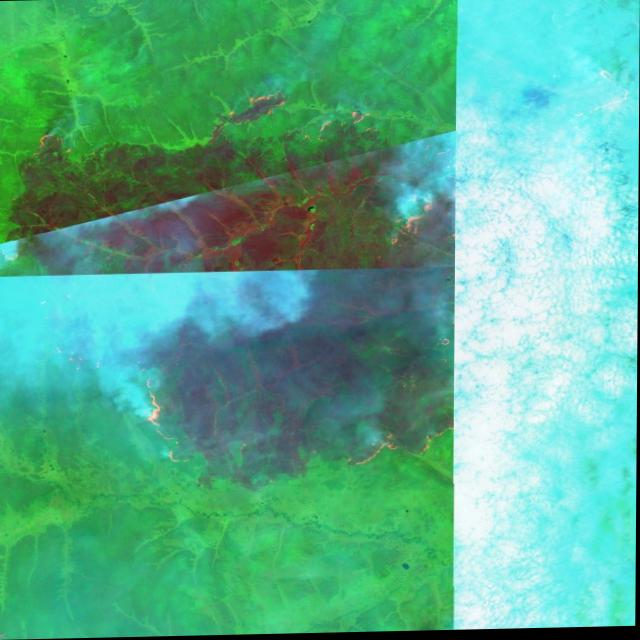fire: (134, 360, 212, 483), (331, 407, 472, 475), (213, 87, 378, 144), (381, 175, 483, 255), (21, 121, 100, 174)
